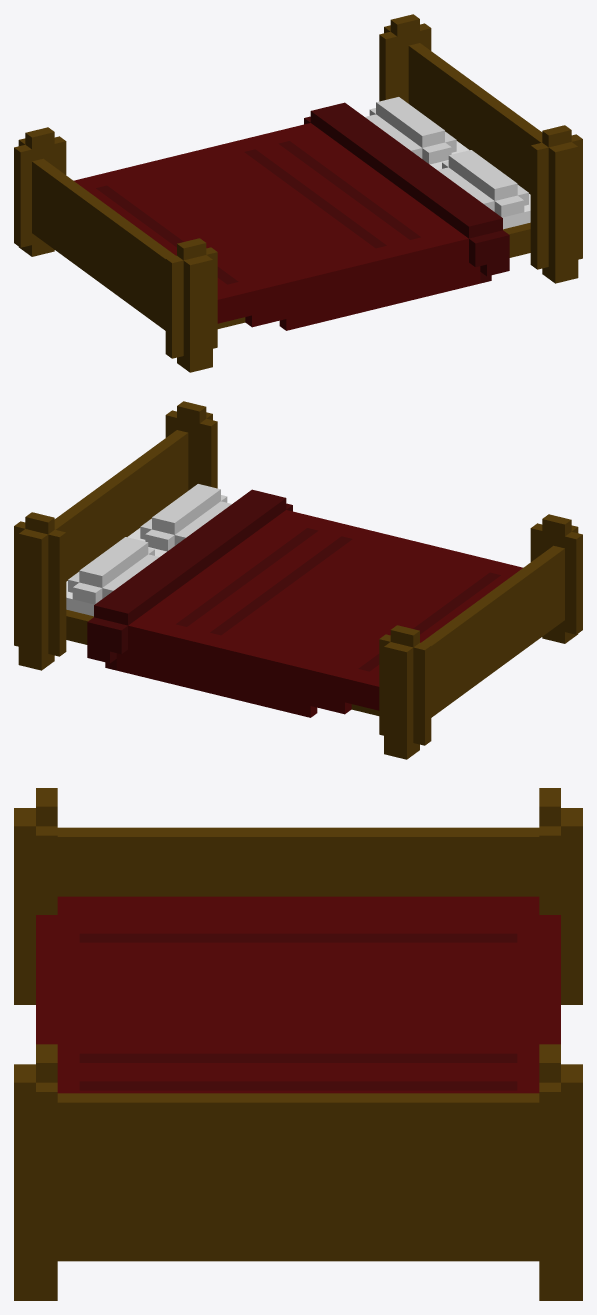
File: F_Bed.obj
3 views of the same model, one above another, from view 1: azimuth 30°, elevation 25°; view 2: azimuth 150°, elevation 25°; view 3: azimuth 270°, elevation 25° (orthographic). The views are drawn at different scales.
Bounding box in the file's own units: 3.6 × 1.2 × 2.6.
Materials: 1 (1 with a texture image).
